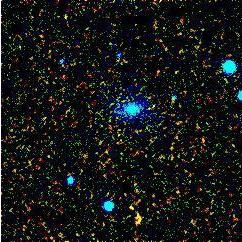star: (124, 204, 154, 234)
